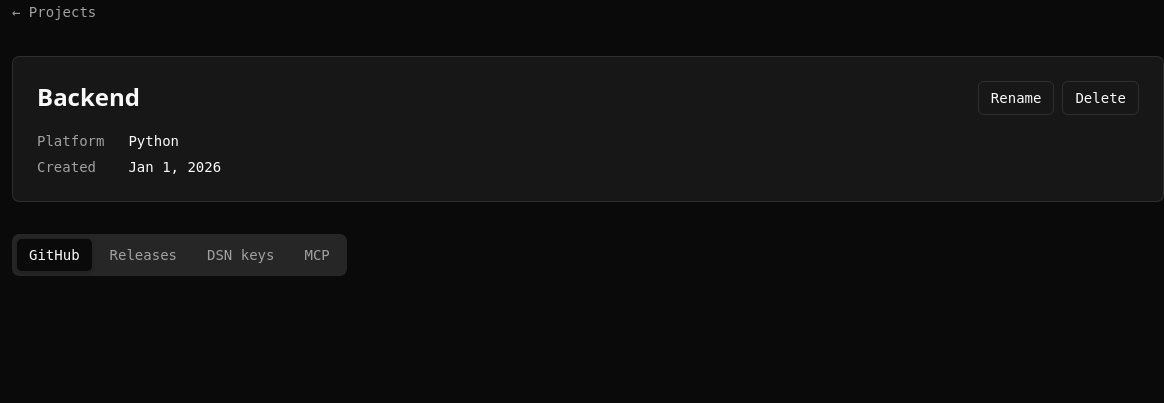
Test case: ProjectDetail › prompts to connect GitHub on the Releases tab when GitHub is not connected
This screenshot has width=1164, height=403.
Click the tab "Releases": (143, 255) [97,238,190,272]
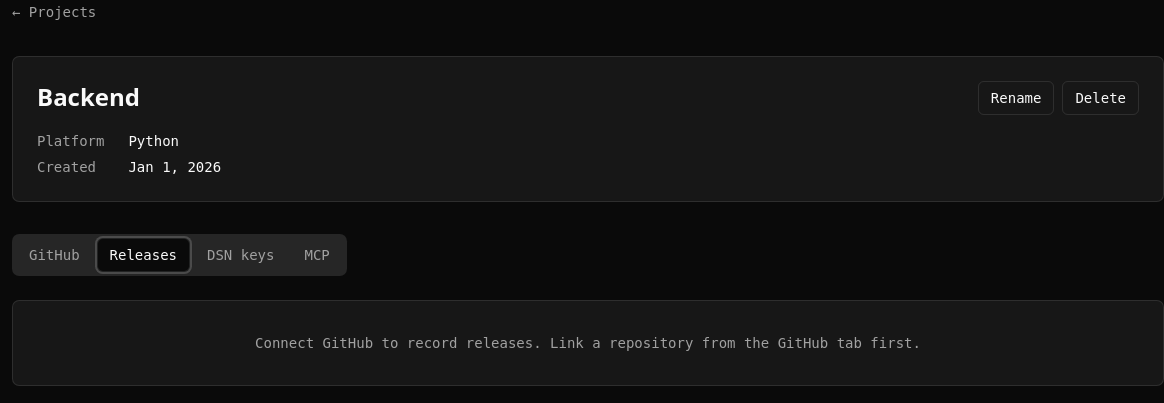
expect the text "Connect GitHub to record releases" is shown: met, box [255,335,921,351]
